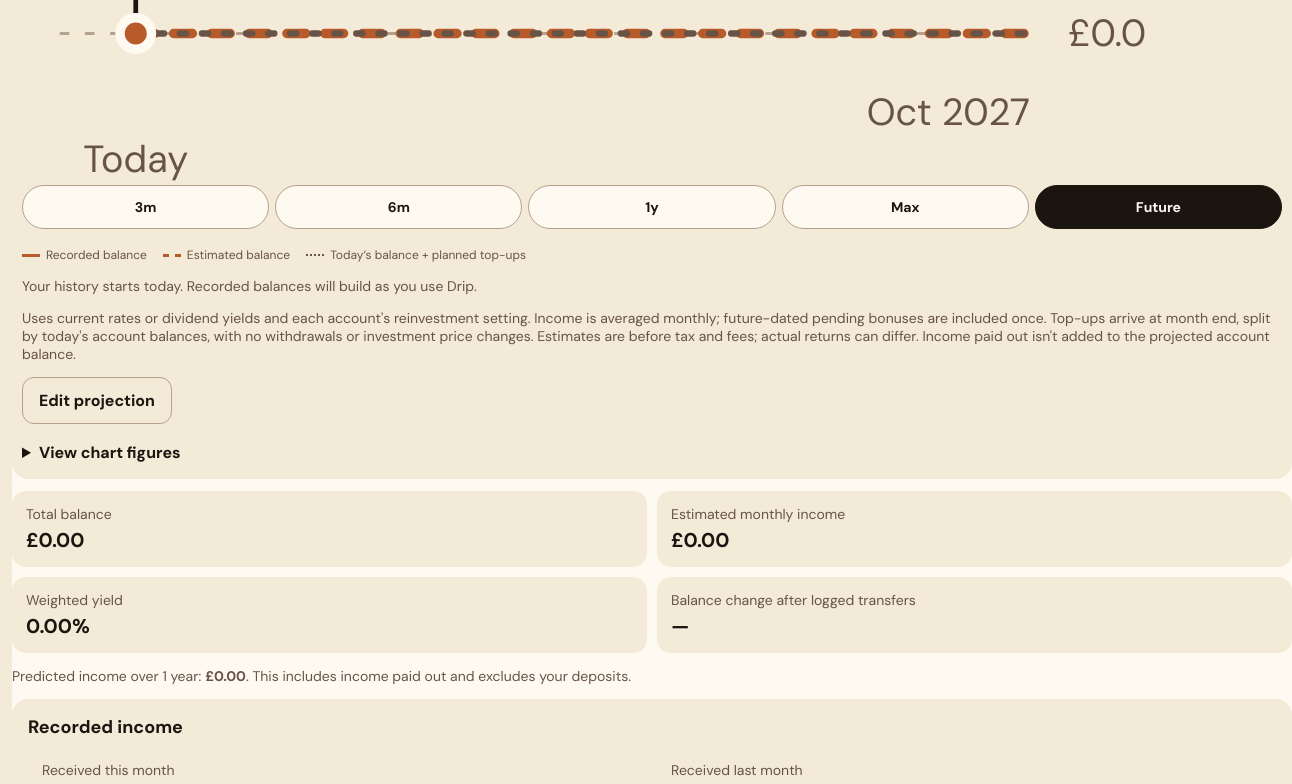
Test: projection save completion › keeps the confirmed forecast and editor until the save succeeds, without duplicate submissions
(page scrolled)
Click the button "Edit projection". click: (97, 401)
box: [22, 377, 172, 424]
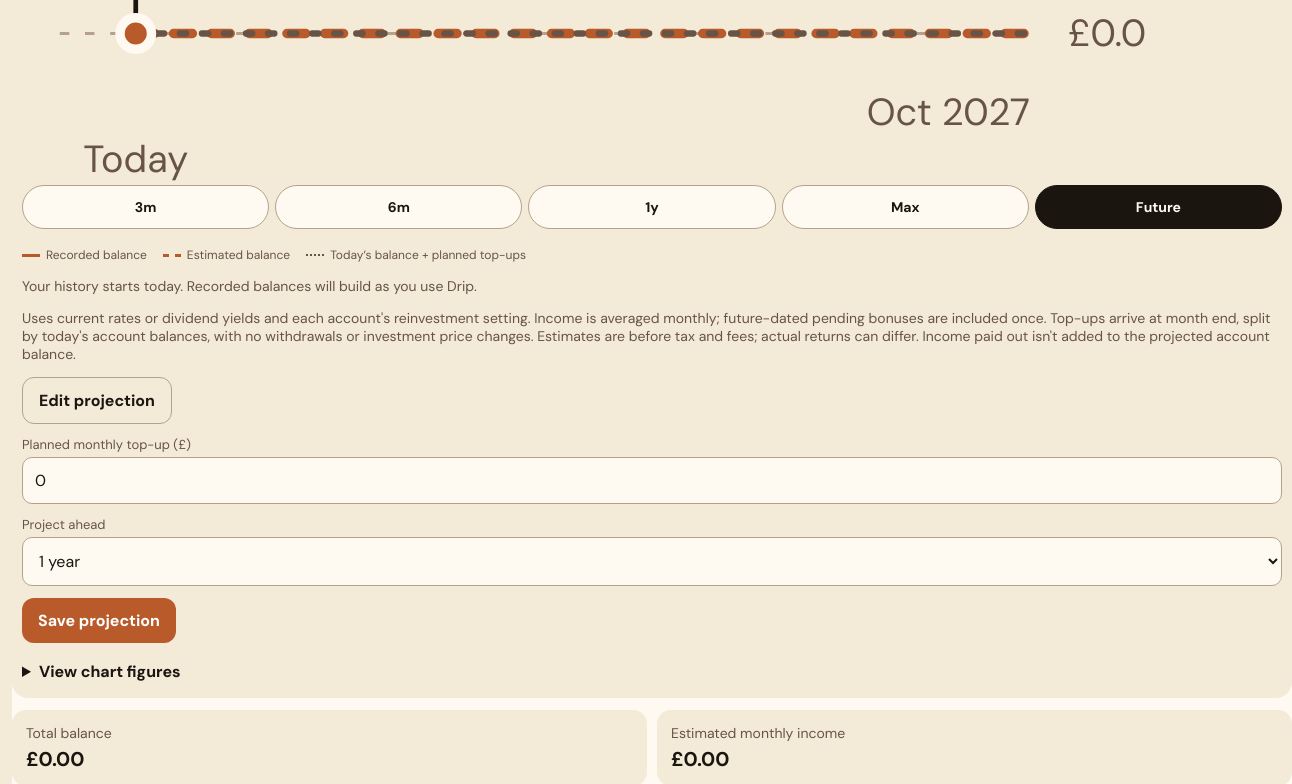
Replace the text in the number field labelled "Planned monthly top-up (£)" with "200". click: (652, 481)
box: [22, 457, 1282, 504]
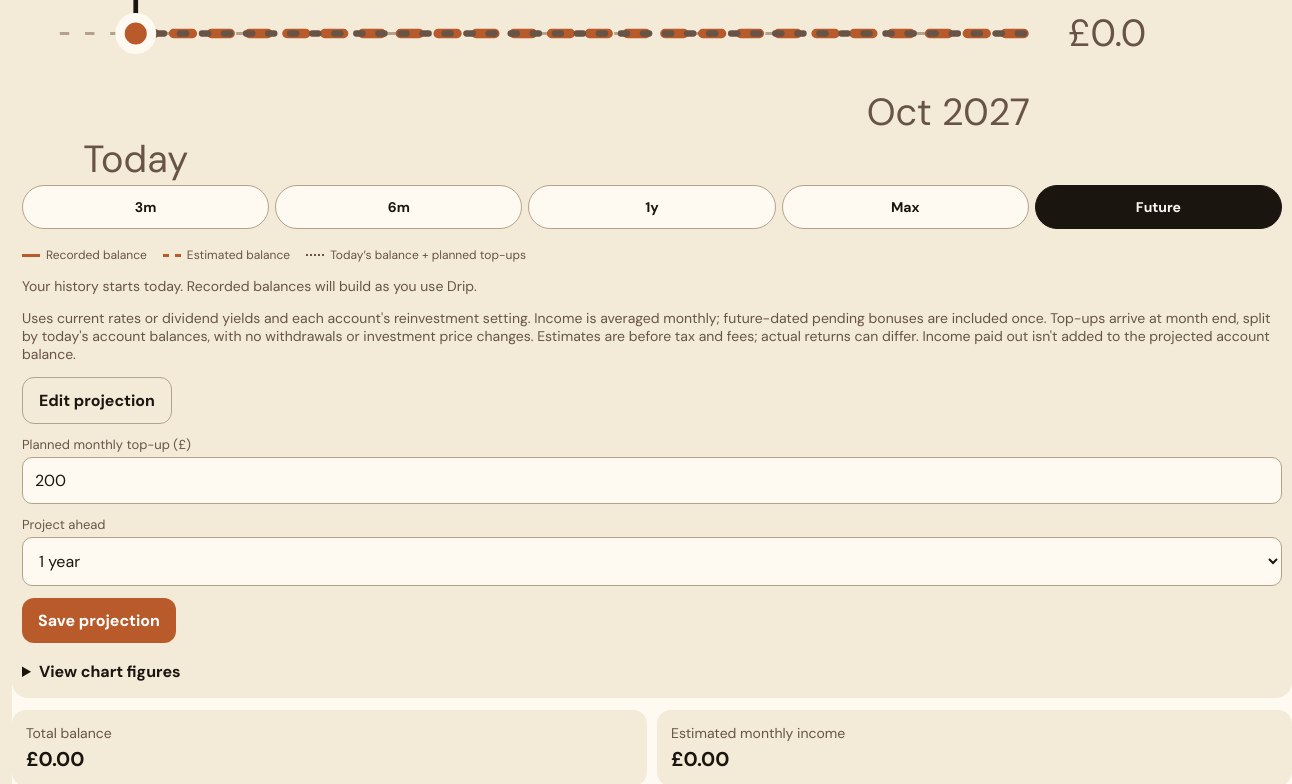
Select "3 years" in the dropdown labelled "Project ahead". click: (652, 562)
box: [22, 537, 1282, 586]
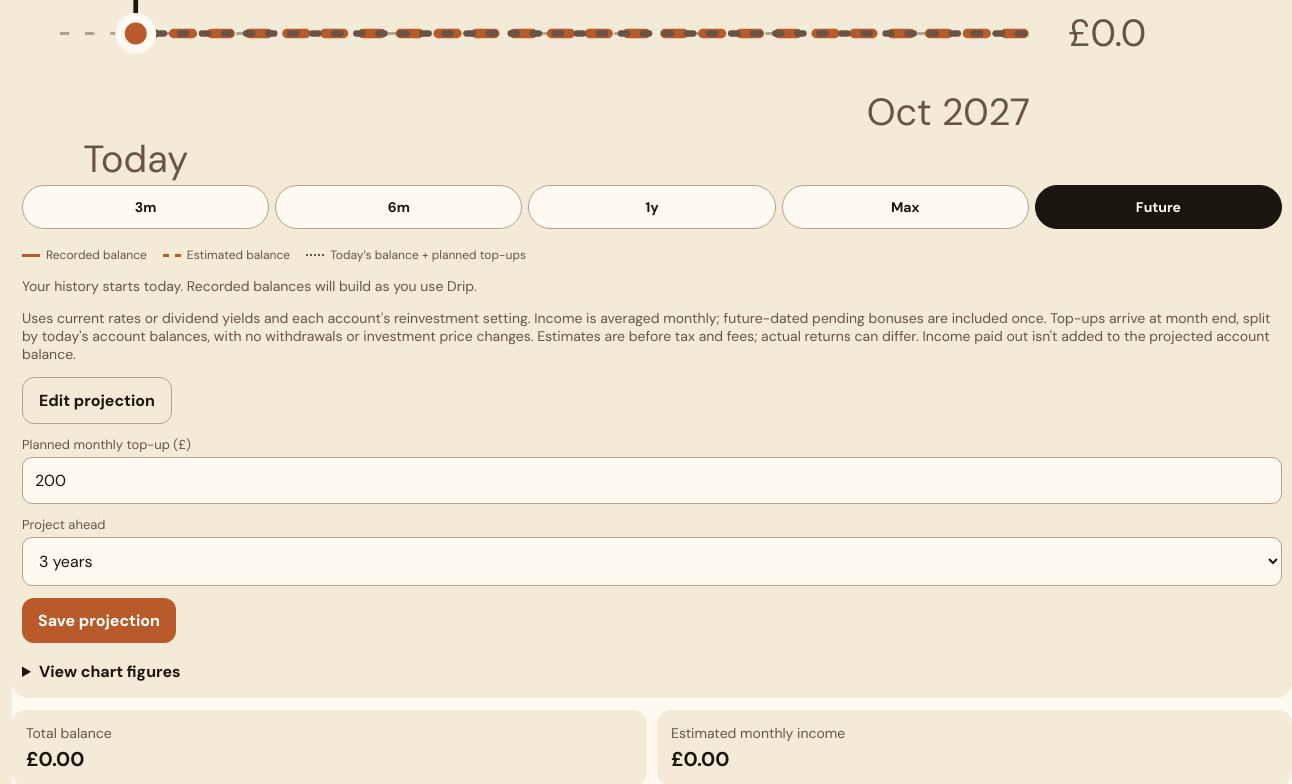
Click the button "Save projection". click: (99, 621)
box: [22, 598, 176, 643]
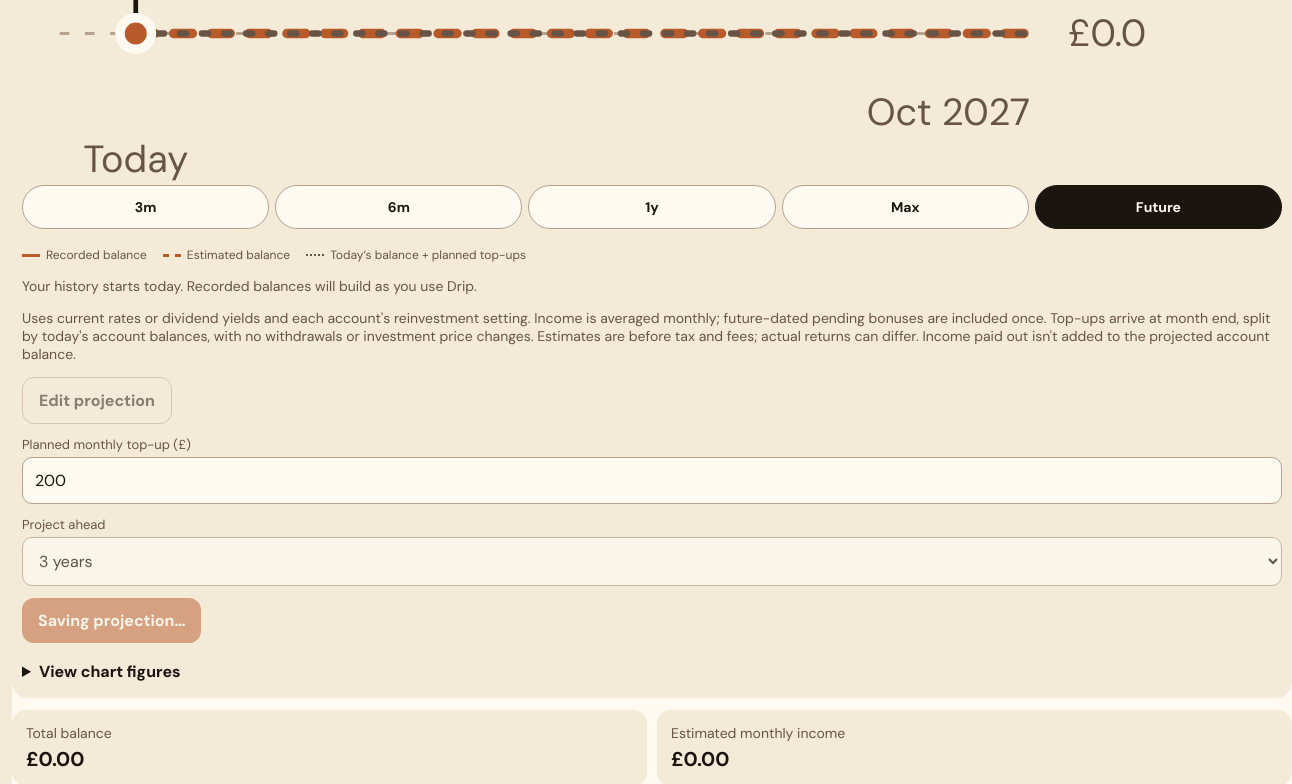
Now the button "Saving projection…" is disabled, box [22, 598, 201, 643]
Now the button "Edit projection" is disabled, box [22, 377, 172, 424]
Now the dropdown labelled "Project ahead" is disabled, box [22, 537, 1282, 586]
Submit the form named "Projection assumptions", box [22, 436, 1282, 643]
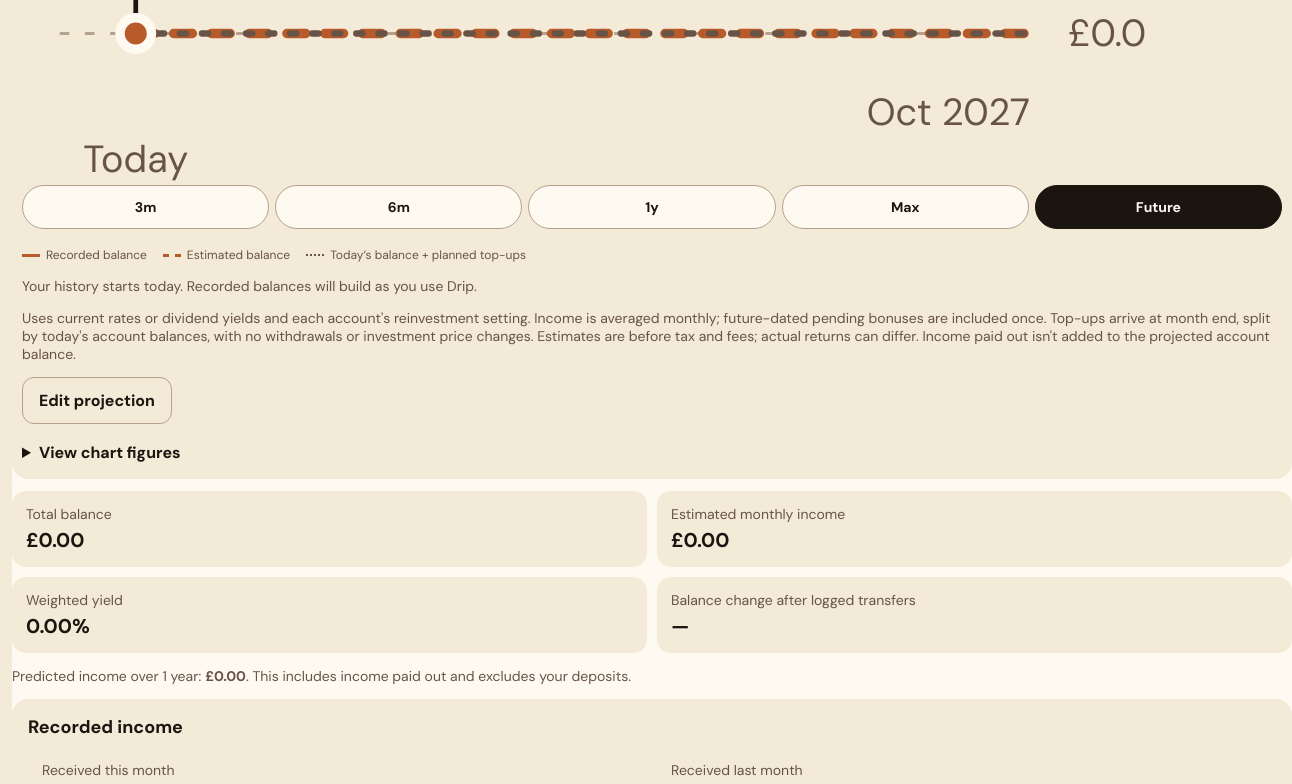
Expected: the field labelled "Planned monthly top-up (£)" is not shown
Now the button "Edit projection" is collapsed, box [22, 377, 172, 424]
